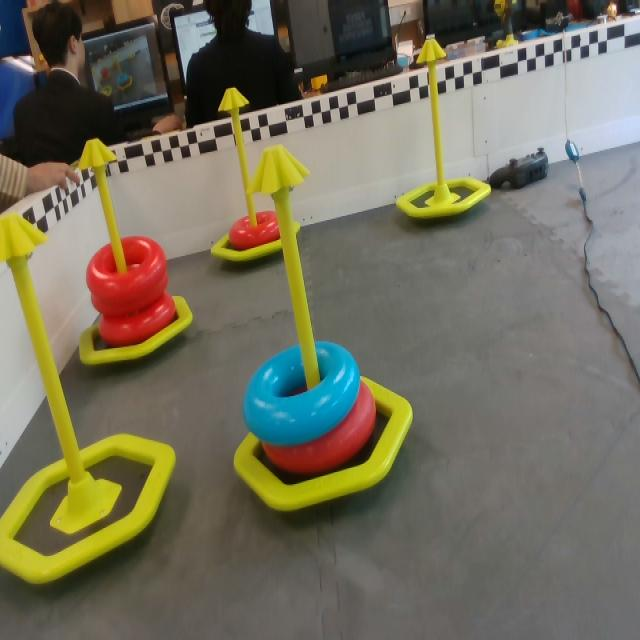Blue-Ring: (242, 343, 361, 445)
Mobile-Goal: (229, 145, 418, 513), (0, 211, 181, 585), (71, 139, 196, 366), (394, 34, 496, 224), (204, 87, 303, 270)
Red-Ring: (269, 390, 379, 472), (87, 236, 166, 304), (96, 294, 179, 342), (228, 209, 279, 250)
Yellow-Stake-Head: (250, 143, 312, 194), (0, 210, 53, 265), (77, 139, 116, 169), (417, 37, 447, 65), (218, 87, 250, 111)
